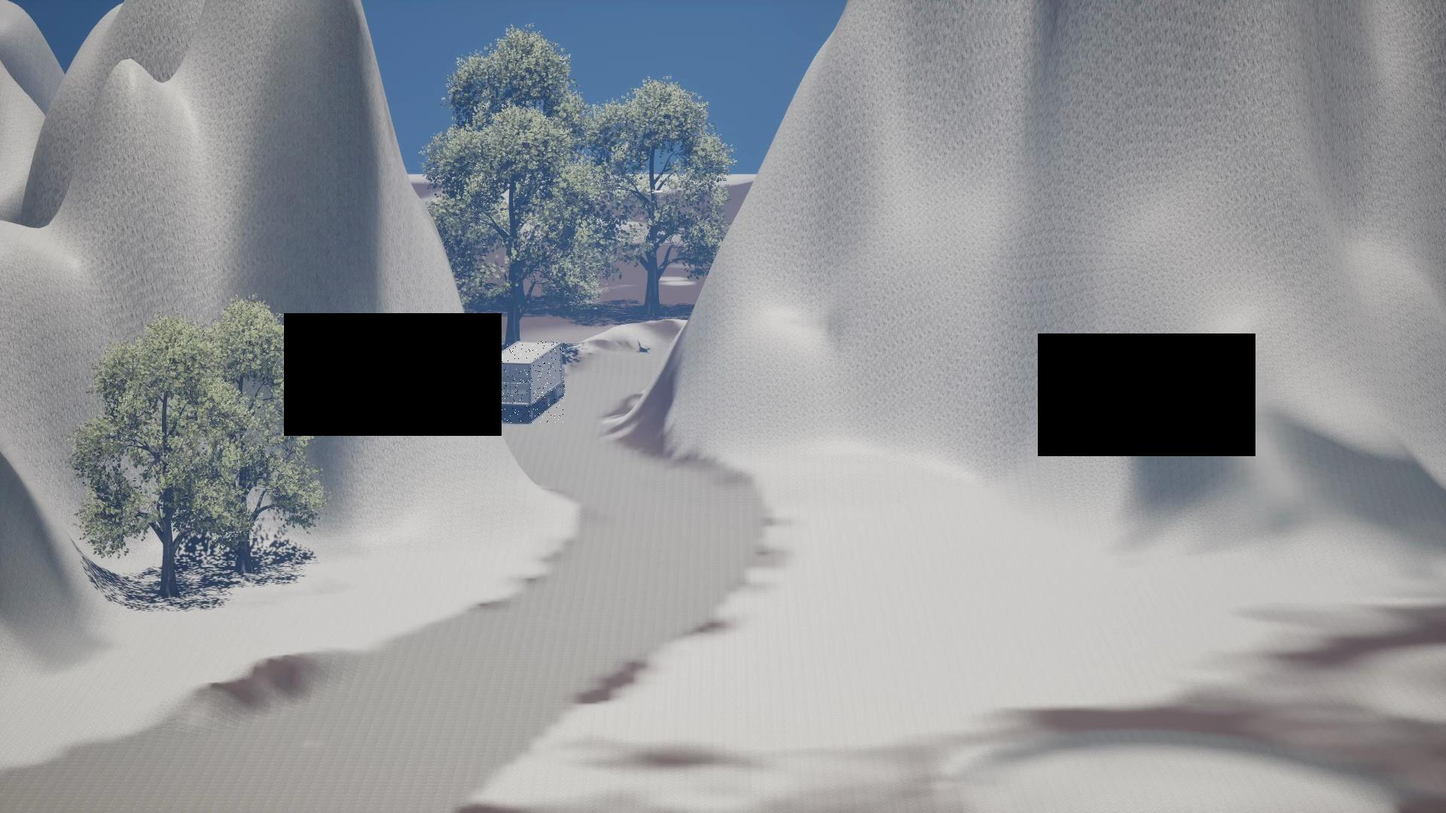truck: (488, 342, 565, 424)
